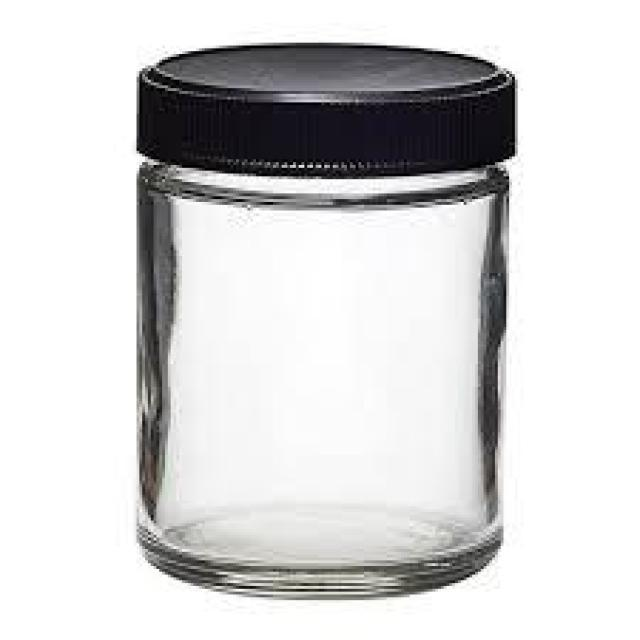Glass: (134, 41, 519, 602)
